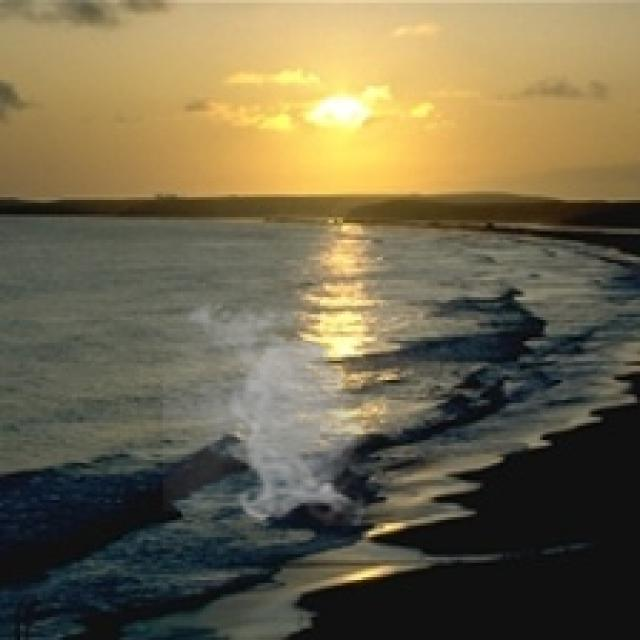Smoke: (162, 294, 378, 526)
